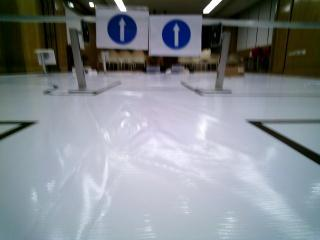straight: (146, 13, 203, 56), (97, 8, 147, 47)
